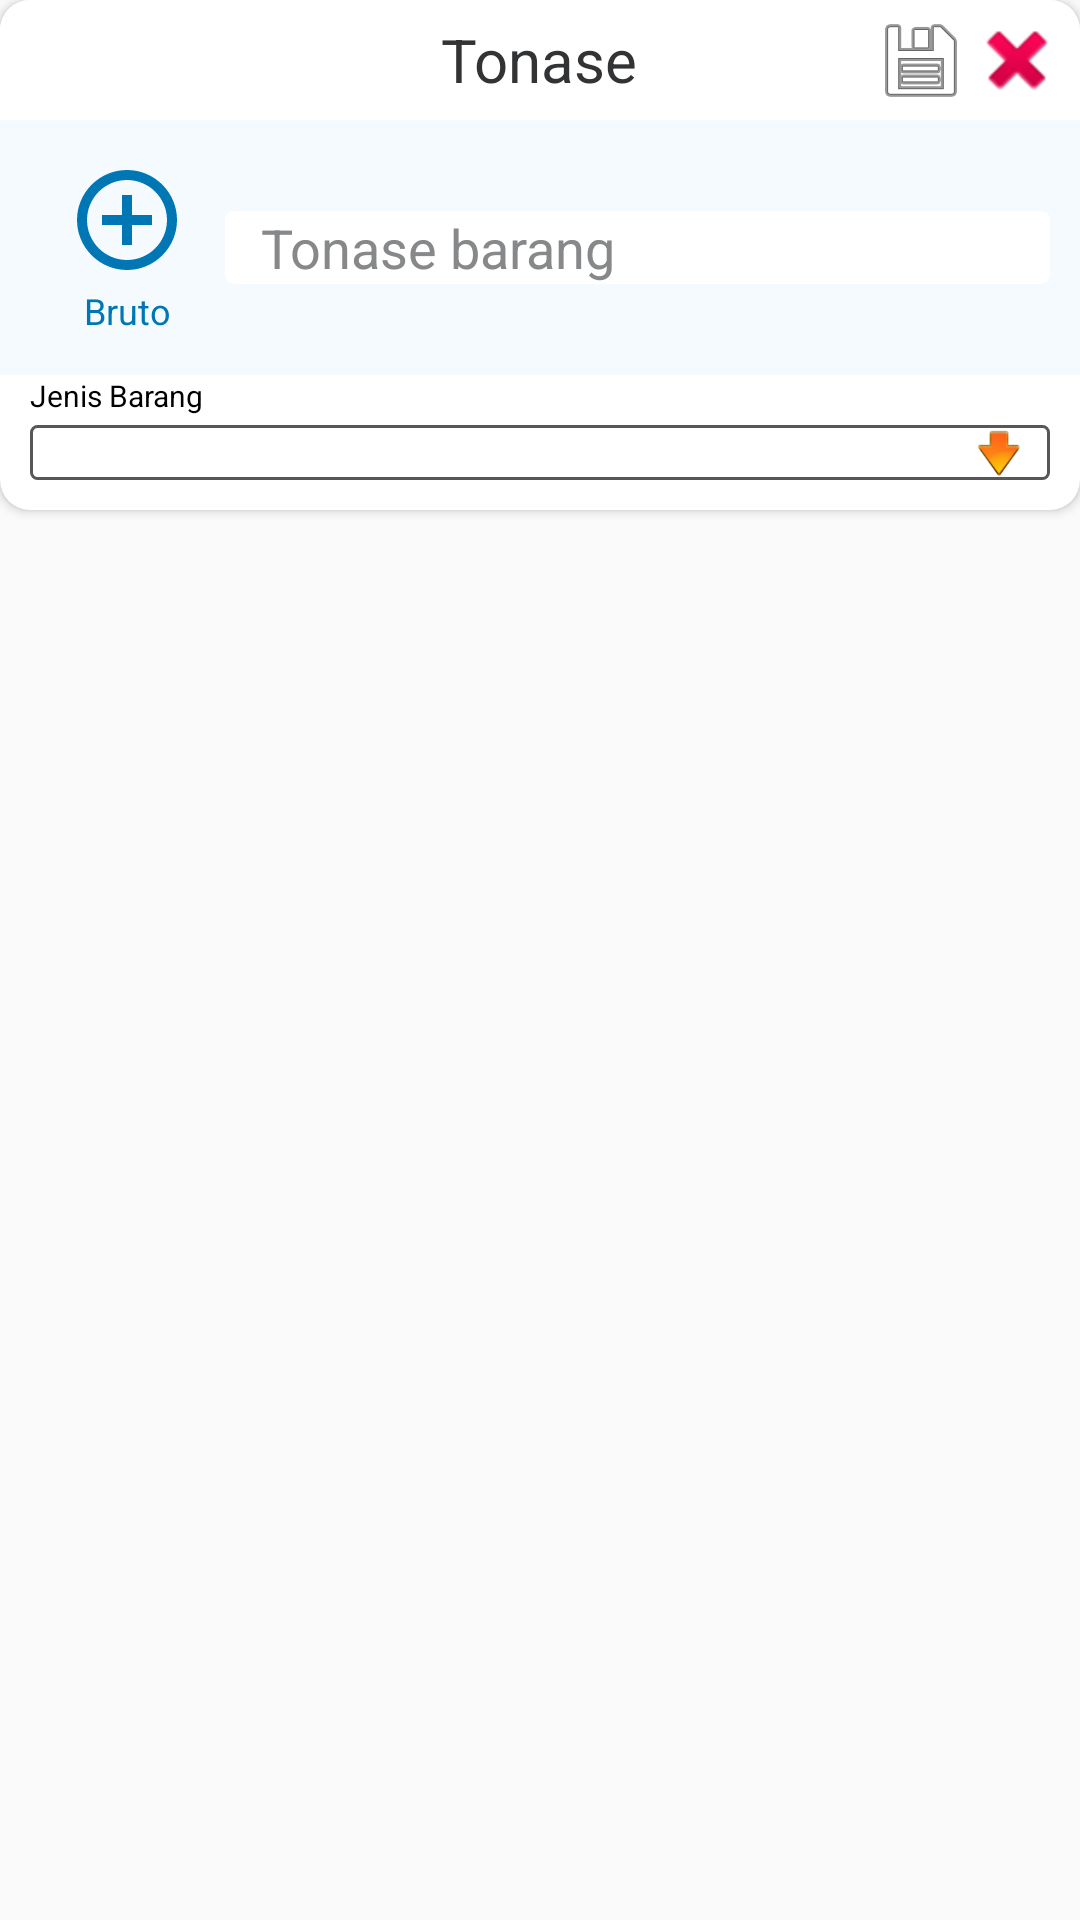

Icons on this 1080px×1920px Android screen, each with the point to tap as point (x, y):
delete: point (1017, 60)
save: point (921, 60)
sign plus: point (127, 220)
